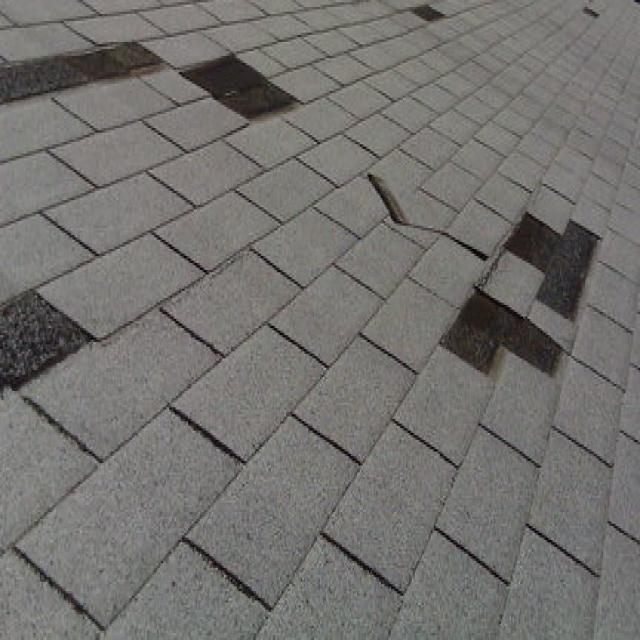damage: (501, 198, 605, 337), (440, 280, 574, 387), (0, 281, 101, 416), (0, 32, 177, 105), (175, 45, 311, 132), (407, 0, 451, 29), (578, 2, 605, 25)
